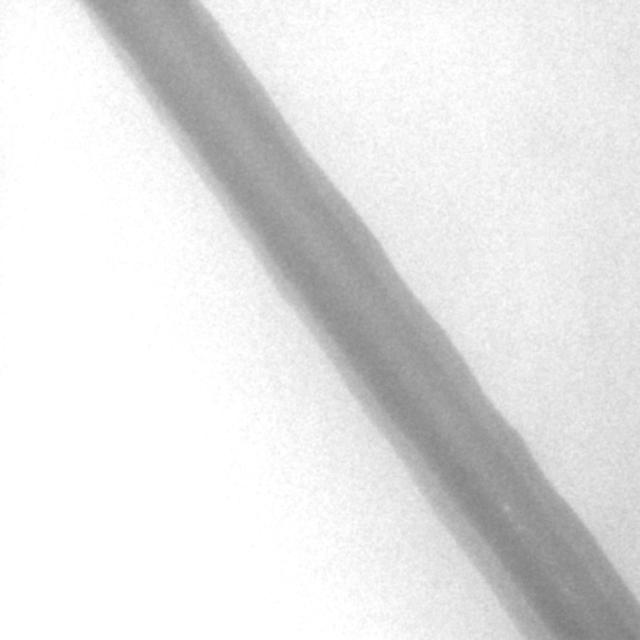air hole: (501, 502, 511, 515)
